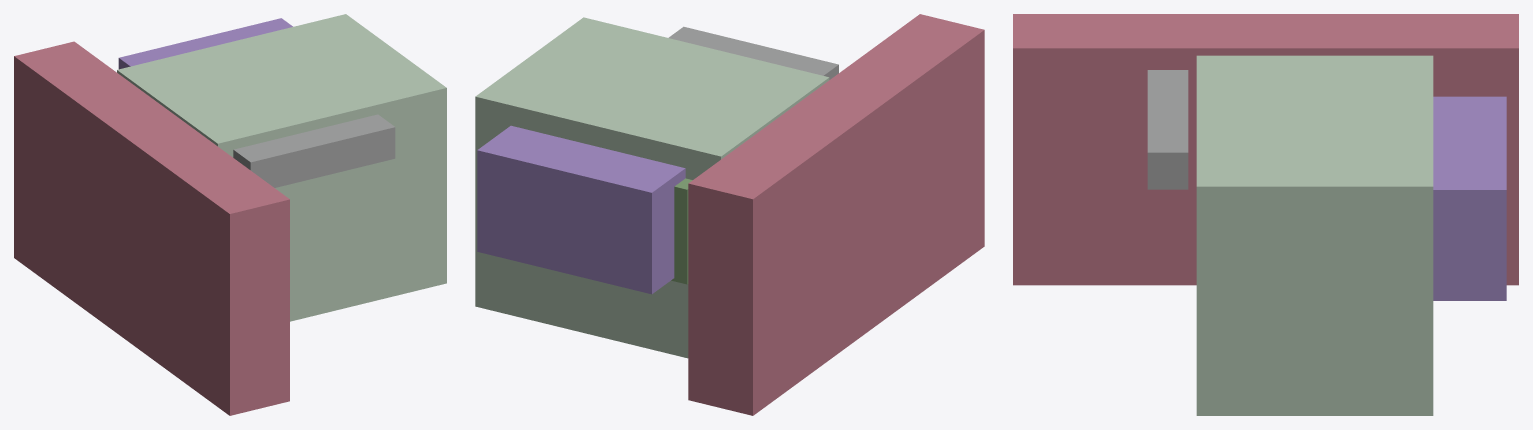
The model's file is 199517_pred.glb.
3 views of the same model, side by side, from view 1: azimuth 30°, elevation 25°; view 2: azimuth 150°, elevation 25°; view 3: azimuth 270°, elevation 25° (orthographic). The views are drawn at different scales.
Visible parts, largest first — view 1: world; view 2: world; view 3: world.
Part boxes in pixels (x1=…): world: x1=14, y1=14, x2=446, y2=415; world: x1=475, y1=14, x2=984, y2=415; world: x1=1013, y1=14, x2=1518, y2=415.
Size of the model in its own units: 4.9 by 3.2 by 6.2.
